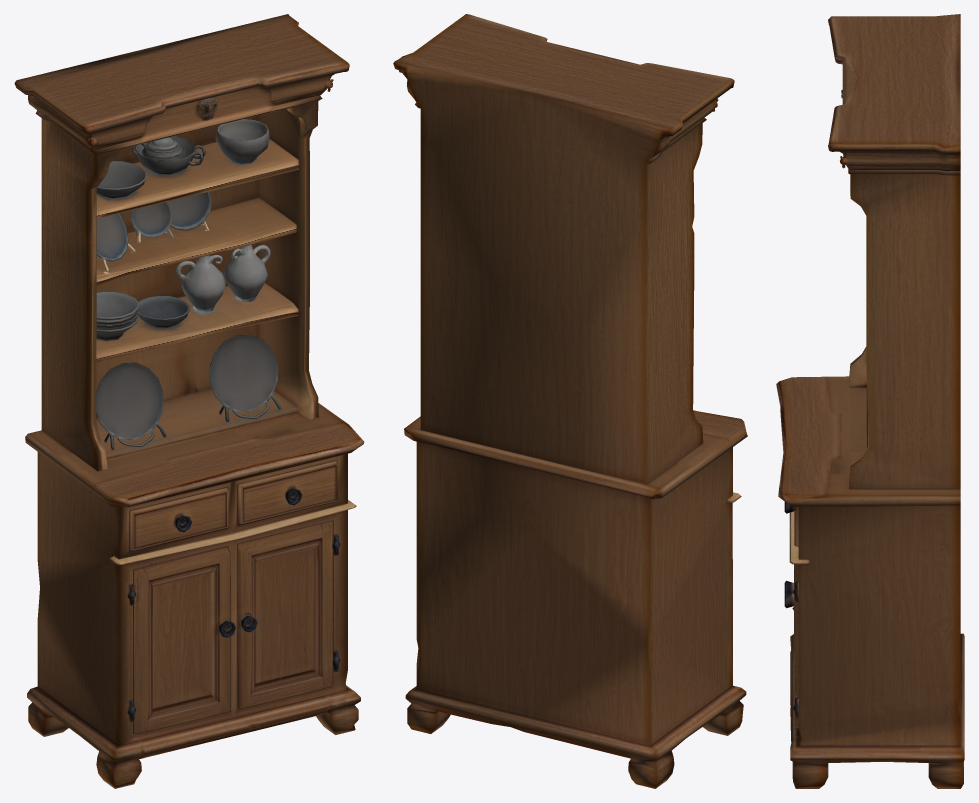
Rendered from credenza.glb.
The picture shows the model from 3 angles, left to right: view 1: azimuth 30°, elevation 25°; view 2: azimuth 150°, elevation 25°; view 3: azimuth 270°, elevation 25°; orthographic projection. The views are drawn at different scales.
Visible parts, largest first — view 1: credenza; view 2: credenza; view 3: credenza.
Boxes of the visible parts, x1=… form: credenza: x1=14, y1=14, x2=364, y2=788; credenza: x1=393, y1=14, x2=747, y2=788; credenza: x1=776, y1=14, x2=964, y2=788.
Size of the model in its own units: 0.4419 by 0.9995 by 0.2622.
Materials: 1 (1 with a texture image).
